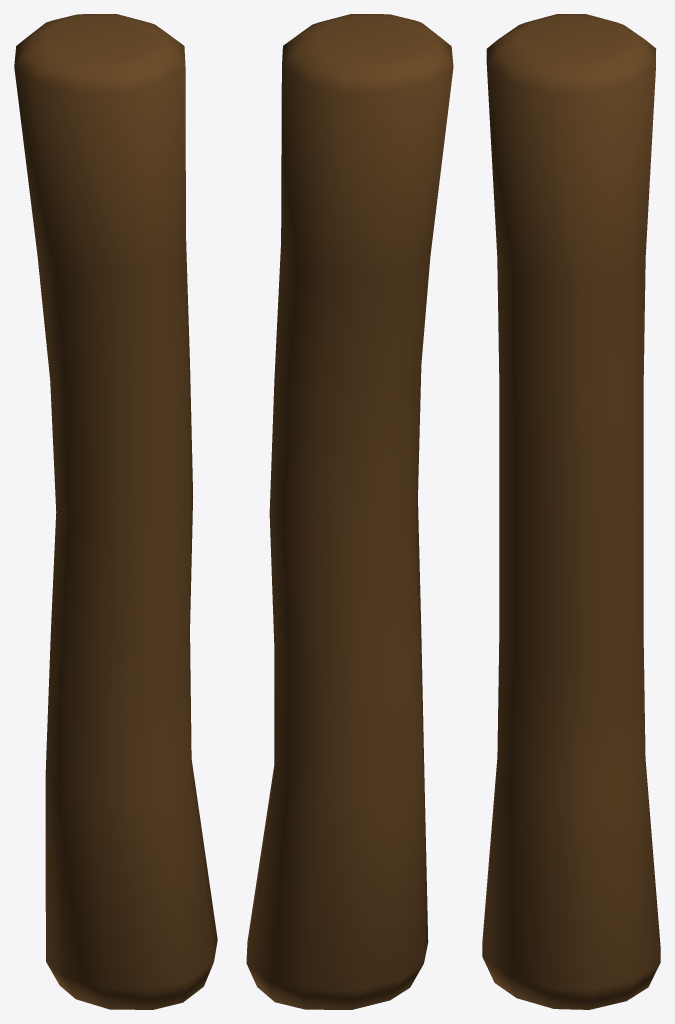
Rendered from CanecaCabo_Taverna.fbx.
The picture shows the model from 3 angles, left to right: view 1: azimuth 30°, elevation 25°; view 2: azimuth 150°, elevation 25°; view 3: azimuth 270°, elevation 25°; orthographic projection. The views are drawn at different scales.
Parts seen in each view (by area): view 1: Cube.006; view 2: Cube.006; view 3: Cube.006.
Boxes of the visible parts, box(x1,y1,x2,y2) form: Cube.006: box(14, 14, 217, 1009); Cube.006: box(246, 14, 453, 1009); Cube.006: box(482, 14, 660, 1009).
Bounding box in the file's own units: 9.74 × 47.49 × 8.31.
